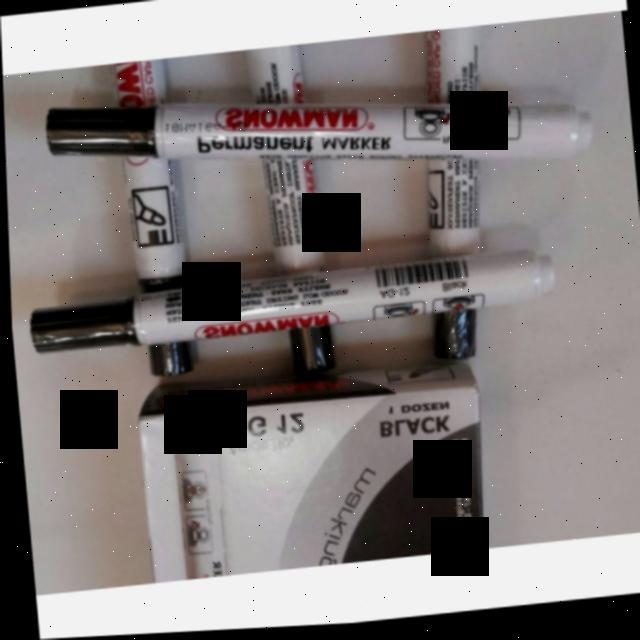marker: (52, 88, 598, 160)
